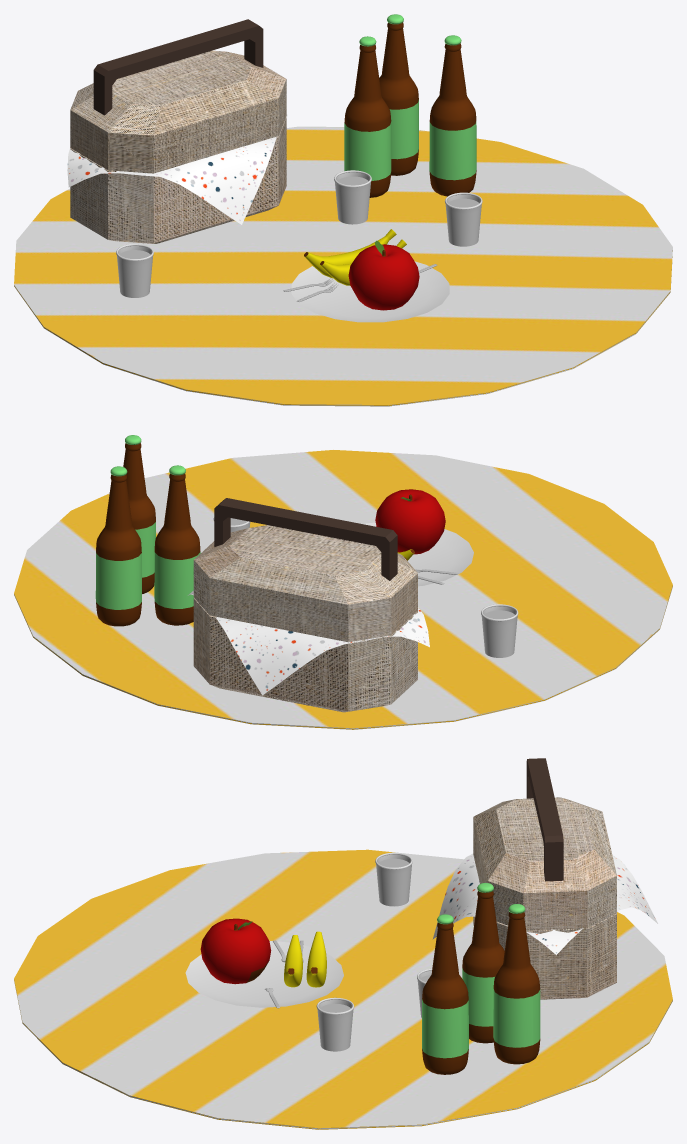
3 renders of one model, top to bottom at view 1: azimuth 30°, elevation 25°; view 2: azimuth 150°, elevation 25°; view 3: azimuth 270°, elevation 25°, orthographic.
Parts seen in each view (by area): view 1: polySurface317; view 2: polySurface317; view 3: polySurface317.
Part boxes in pixels (bbox=[...]): polySurface317: bbox=[14, 14, 672, 406]; polySurface317: bbox=[14, 435, 672, 729]; polySurface317: bbox=[14, 758, 672, 1129].
Size of the model in its own units: 0.4579 by 0.1252 by 0.4579.
Materials: 17 (4 with a texture image).
